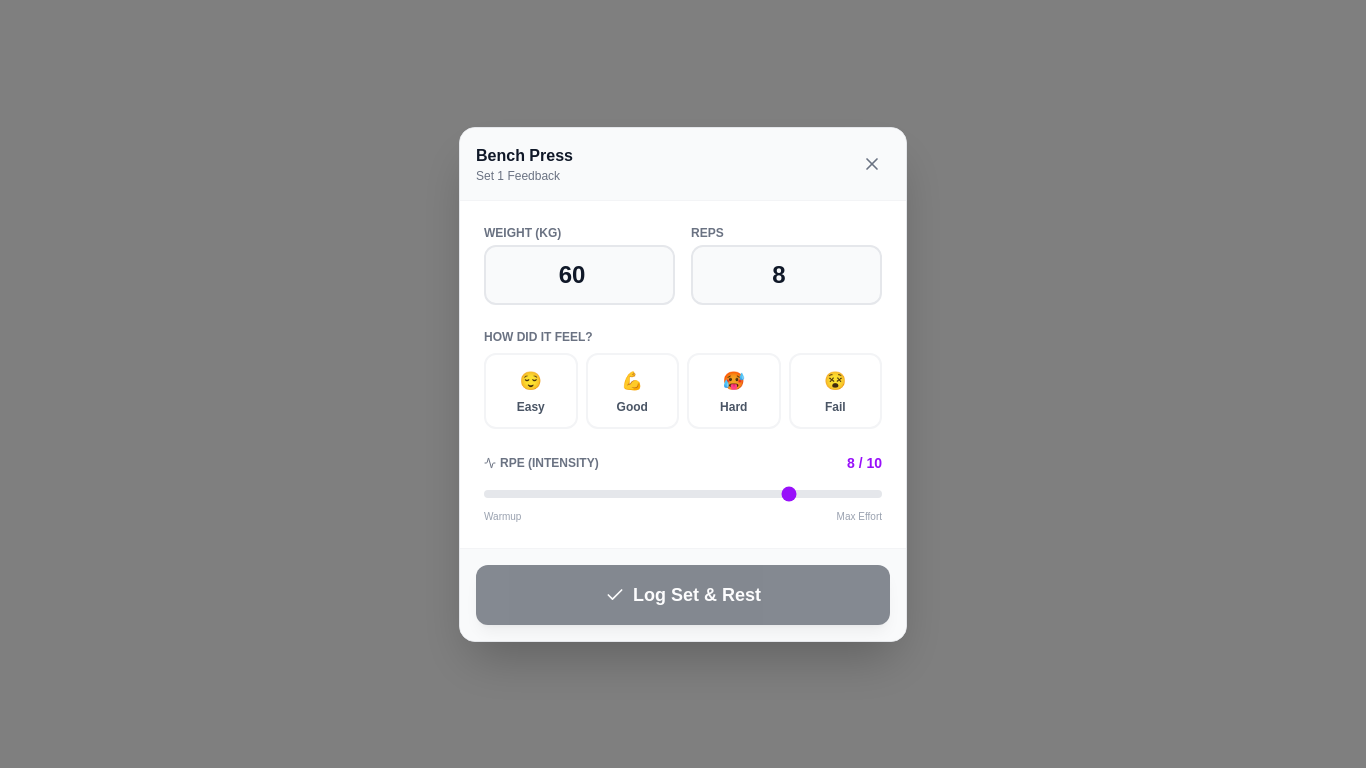
AISetFeedback › User Interactions › should enable feedback button when difficulty is selected
# Select difficulty
Click the button "💪 Good" at (632,390), box [586,352,679,428]
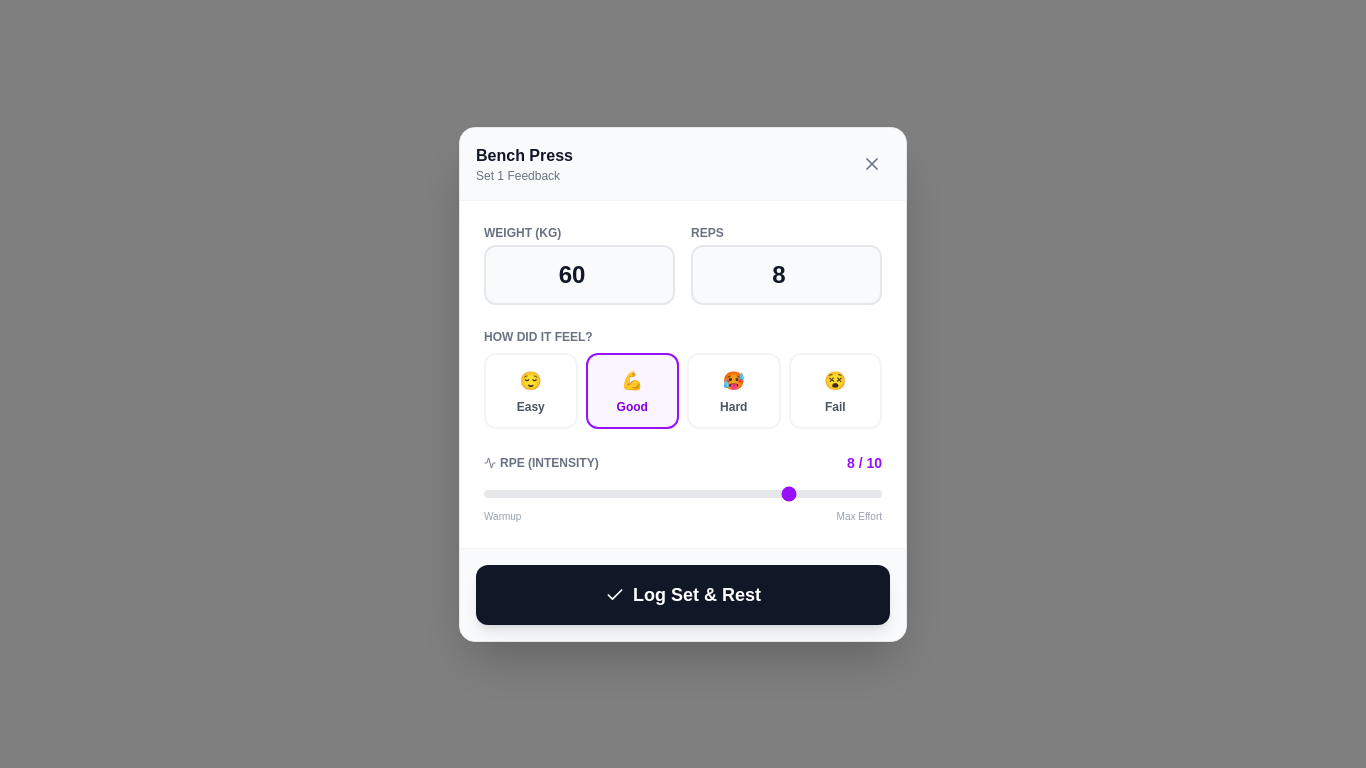
Result: the button "Log Set & Rest" is enabled at [476,564,890,624]
